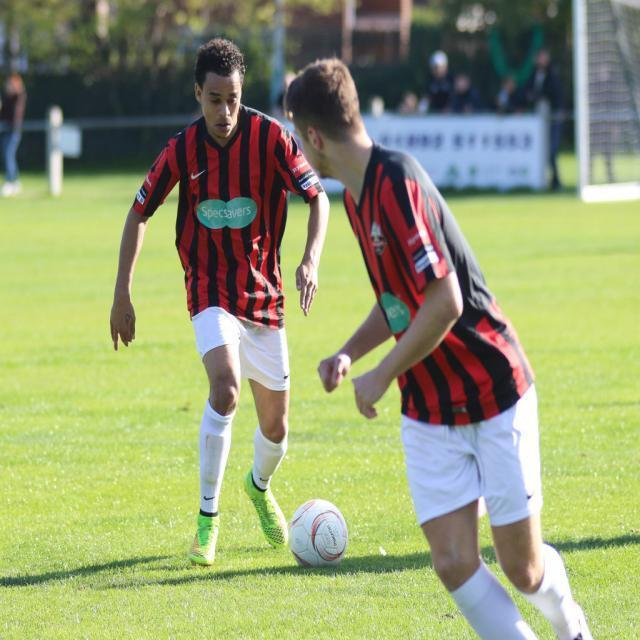football: (262, 487, 370, 568)
